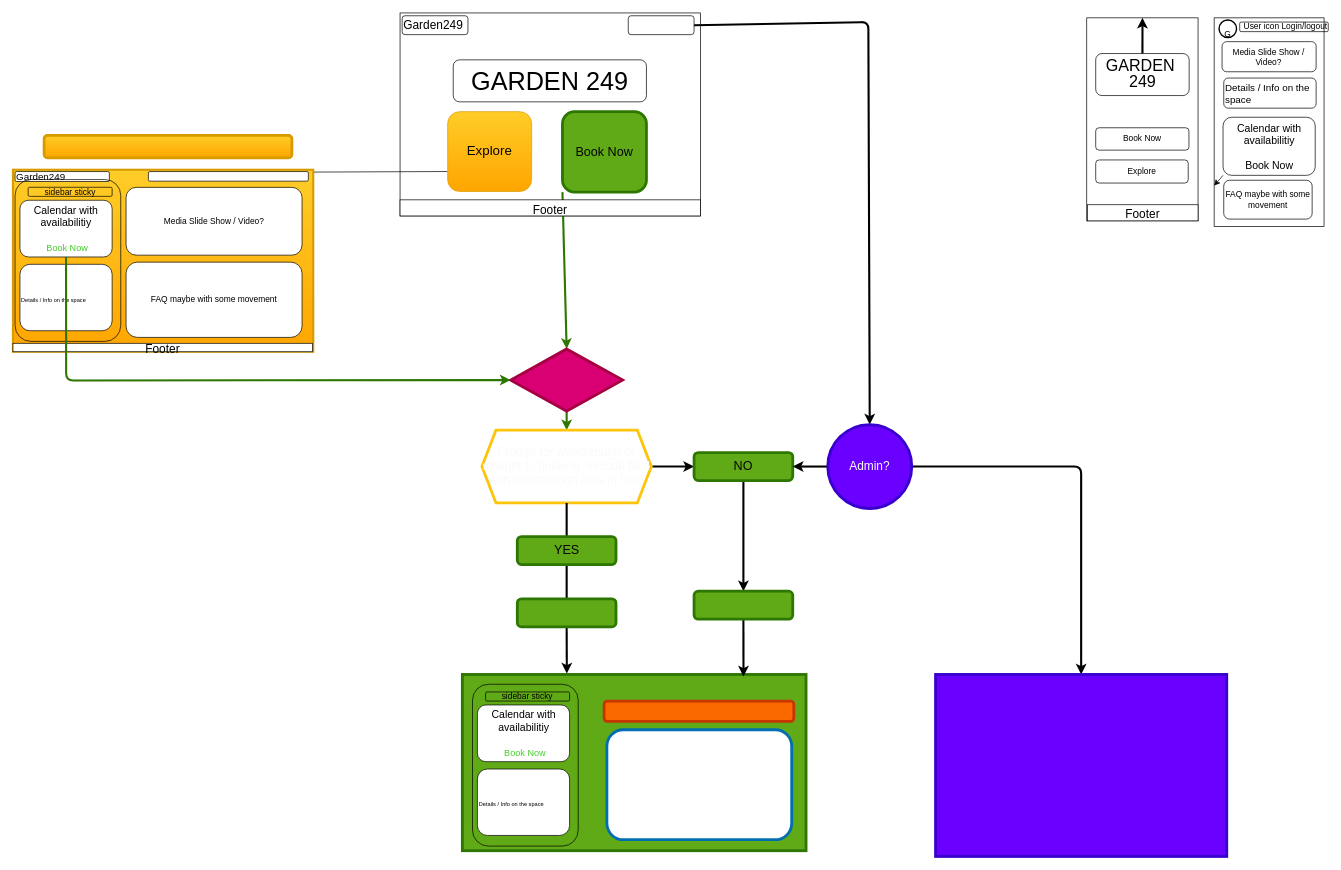
This 1341x870 diagram has some shape labels left out. The shapes that lost their labels are listed below. From the top down, each one's centre as x and y in pixels, then its label:
At [661,25]: "Login".
At [167,146]: "Explore Page".
At [228,176]: "User profile pic and name + Login/logout".
At [566,379]: "Authenticate".
At [566,612]: "Dash with form prepped".
At [743,604]: "Generic User Dash".
At [698,710]: "Renders upcoming/past events".
At [699,784]: "Dynamic Window Will be used for Forms".
At [1081,765]: "Admin Dashboard".
